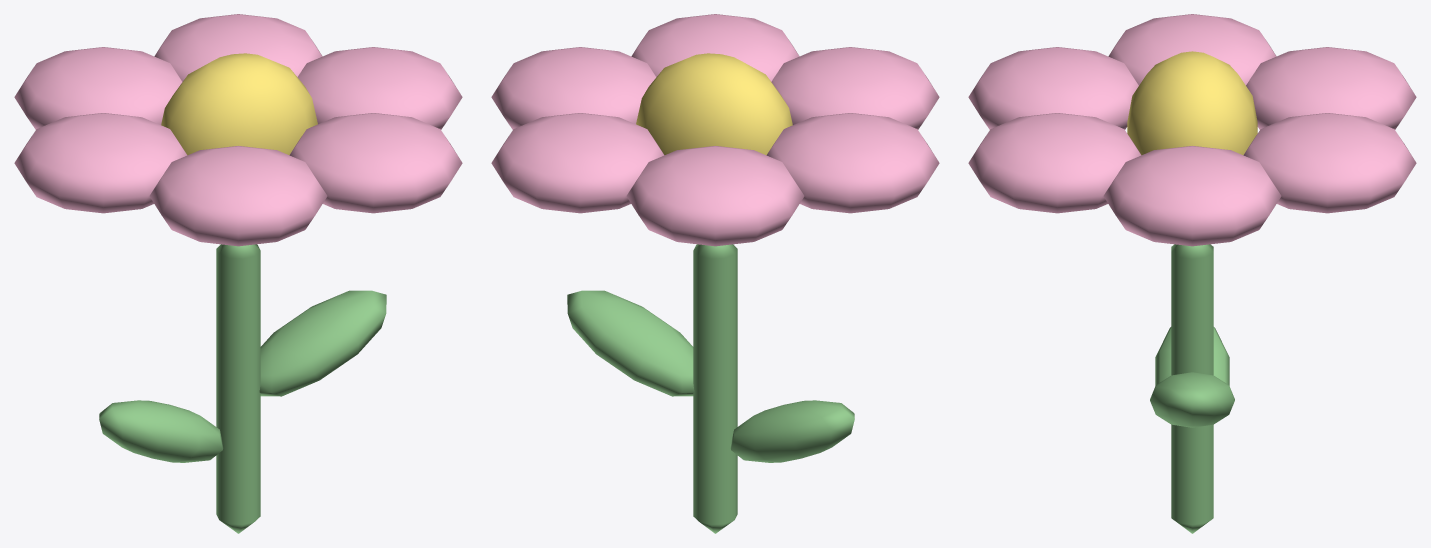
File: flower.glb
The picture shows the model from 3 angles, left to right: view 1: azimuth 30°, elevation 25°; view 2: azimuth 150°, elevation 25°; view 3: azimuth 270°, elevation 25°; orthographic projection.
Visible parts, largest first — view 1: Petal2, Petal1, Petal3, Stem, Centre, Petal4, Petal0, LeafLeft, Petal5, LeafRight; view 2: Petal4, Petal5, Petal3, Stem, Centre, Petal2, Petal0, LeafLeft, Petal1, LeafRight; view 3: Petal0, Petal1, Petal5, Centre, Petal2, Petal4, Stem, Petal3, LeafLeft, LeafRight.
Boxes of the visible parts, x1,y1,x2,y2 form: Petal2: (149, 146, 327, 246); Petal1: (289, 113, 462, 213); Petal3: (14, 113, 187, 213); Stem: (216, 244, 260, 533); Centre: (161, 53, 317, 155); Petal4: (14, 47, 182, 129); Petal0: (297, 47, 462, 129); LeafLeft: (259, 290, 386, 396); Petal5: (154, 14, 322, 81); LeafRight: (99, 400, 223, 462); Petal4: (626, 146, 804, 246); Petal5: (491, 113, 664, 213); Petal3: (766, 113, 939, 213); Stem: (693, 244, 737, 533); Centre: (636, 53, 792, 155); Petal2: (771, 47, 939, 129); Petal0: (491, 47, 656, 129); LeafLeft: (567, 290, 694, 396); Petal1: (631, 14, 799, 81); LeafRight: (730, 400, 854, 462); Petal0: (1103, 146, 1281, 246); Petal1: (968, 113, 1141, 213); Petal5: (1243, 113, 1416, 213); Centre: (1127, 51, 1257, 154); Petal2: (968, 47, 1138, 129); Petal4: (1246, 47, 1416, 129); Stem: (1171, 244, 1213, 533); Petal3: (1108, 14, 1276, 85); LeafLeft: (1150, 372, 1234, 427); LeafRight: (1155, 327, 1229, 385).
Bounding box in the file's own units: 0.88 × 0.94 × 0.805.
